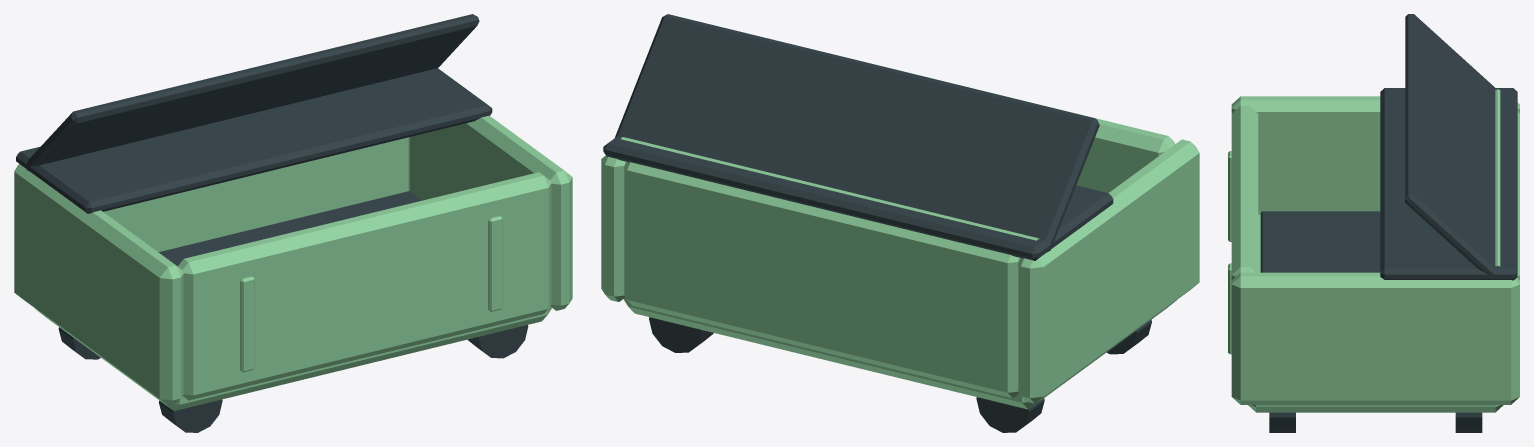
Rendered from dumpster.glb.
3 views of the same model, side by side, from view 1: azimuth 30°, elevation 25°; view 2: azimuth 150°, elevation 25°; view 3: azimuth 270°, elevation 25° (orthographic). The views are drawn at different scales.
Parts seen in each view (by area): view 1: Keep_Mesh; view 2: Keep_Mesh; view 3: Keep_Mesh.
Part boxes in pixels (x1=…): Keep_Mesh: x1=14, y1=14, x2=572, y2=432; Keep_Mesh: x1=601, y1=14, x2=1199, y2=432; Keep_Mesh: x1=1228, y1=14, x2=1519, y2=432.
Bounding box in the file's own units: 2 × 1.28 × 1.32.
